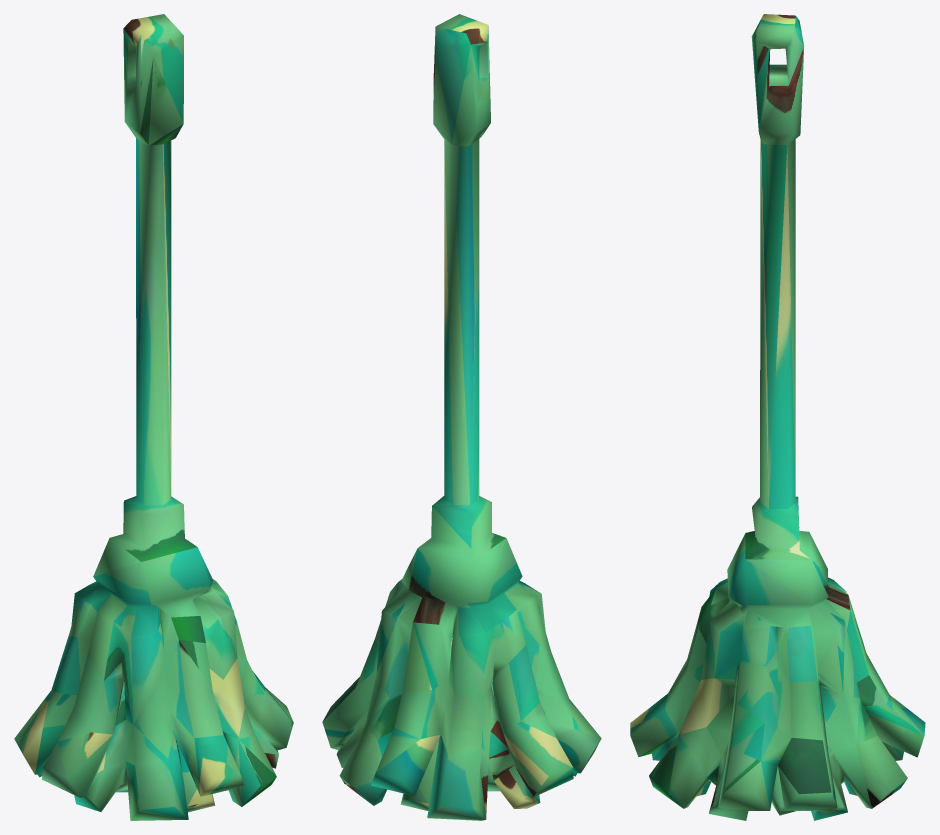
File: MOP MODEL.fbx
3 views of the same model, side by side, from view 1: azimuth 30°, elevation 25°; view 2: azimuth 150°, elevation 25°; view 3: azimuth 270°, elevation 25° (orthographic).
Visible parts, largest first — view 1: Mesh_0; view 2: Mesh_0; view 3: Mesh_0.
Boxes of the visible parts, bbox=[...] form: Mesh_0: bbox=[14, 14, 293, 820]; Mesh_0: bbox=[322, 14, 601, 820]; Mesh_0: bbox=[630, 14, 925, 820].
Size of the model in its own units: 63.38 by 189 by 66.06.
